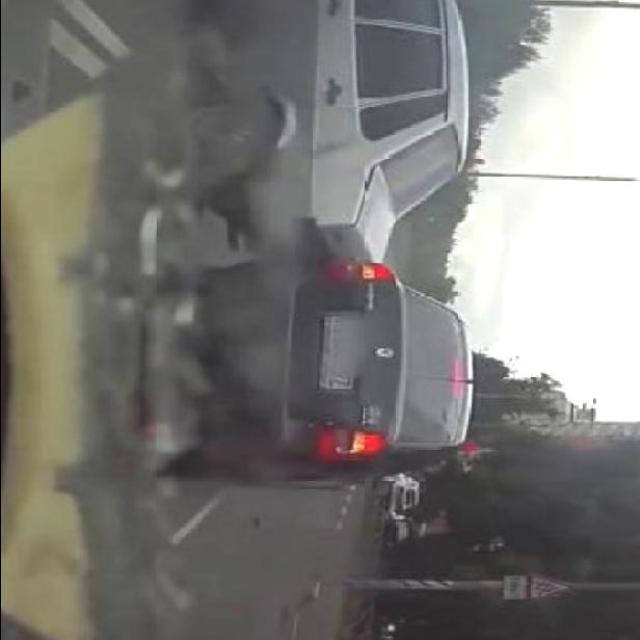accident: (161, 0, 477, 494)
